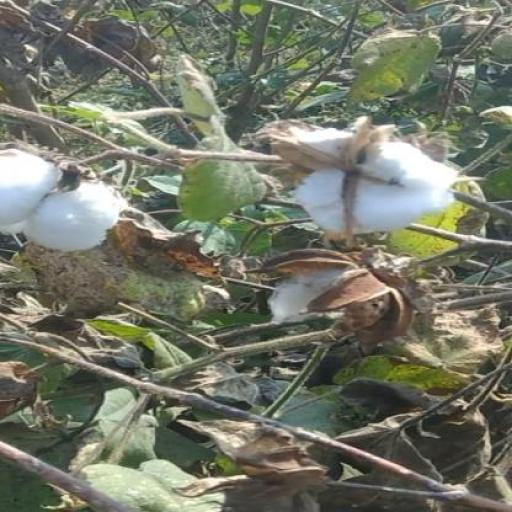cotton_ready: (260, 116, 461, 244), (0, 130, 113, 254)
